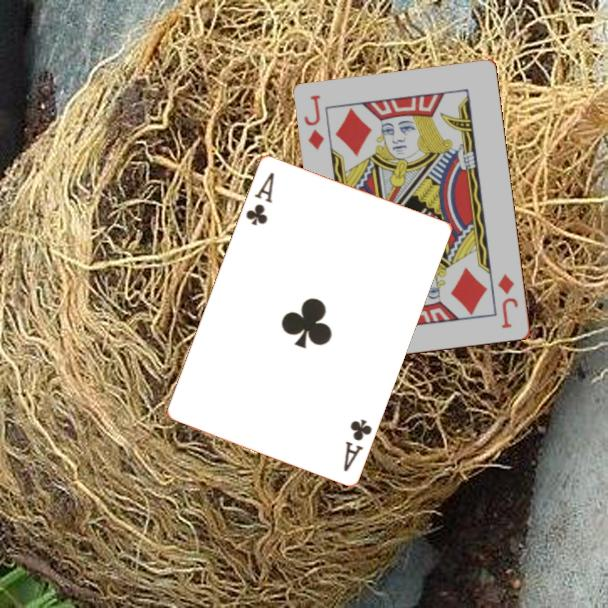c01: (242, 168, 277, 228), (340, 415, 375, 474)
d11: (495, 271, 522, 332), (301, 92, 327, 153)
